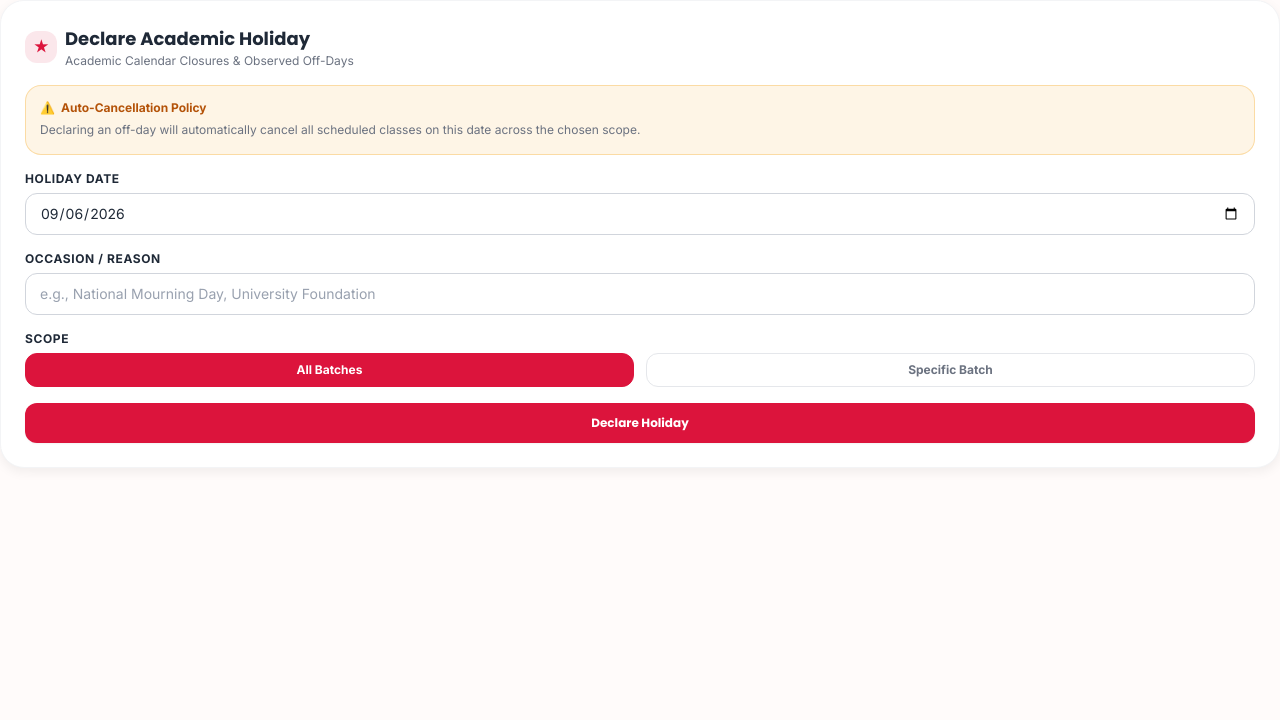
Scenario: HolidayDeclarationForm Component › displays error message when declaration fails
Type "Test Holiday" into the field labelled "Occasion / Reason" at {"x": 640, "y": 294}, box [25, 272, 1255, 314]
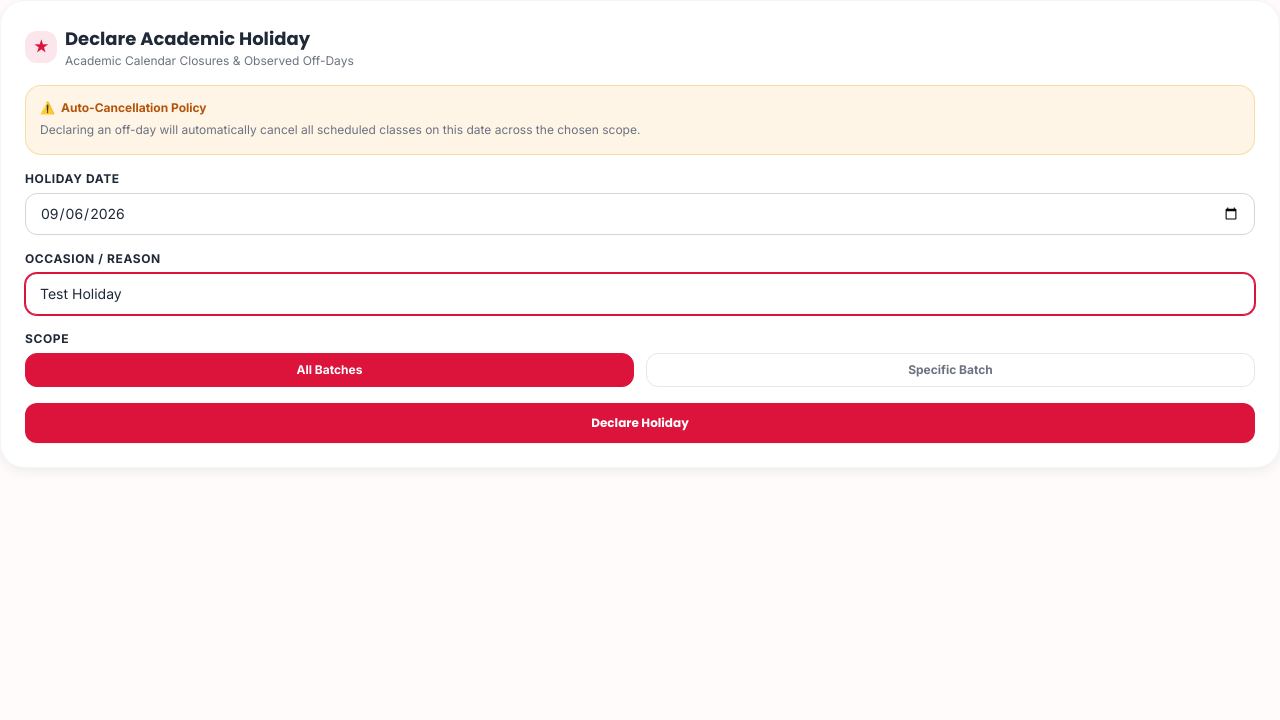
Click the button "Declare Holiday" at {"x": 640, "y": 422}, box [25, 402, 1255, 442]
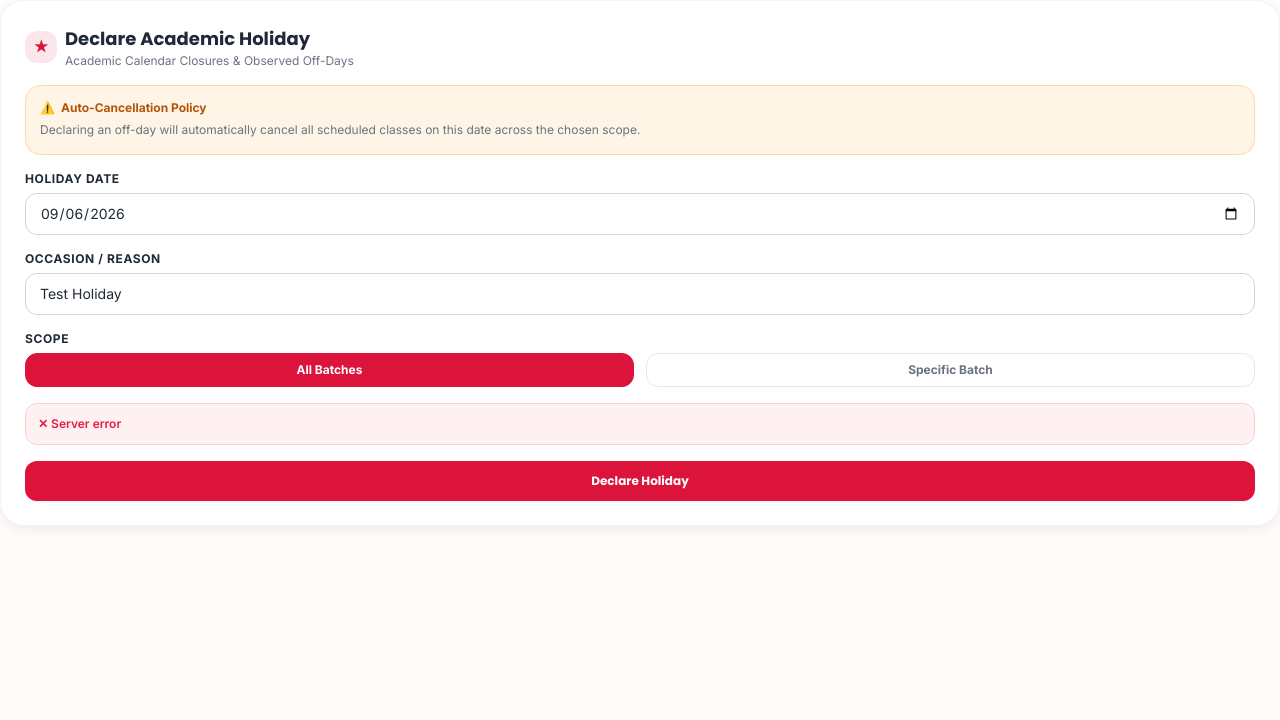
Expected: the text "✕ Server error" is shown, [25, 402, 1255, 444]
